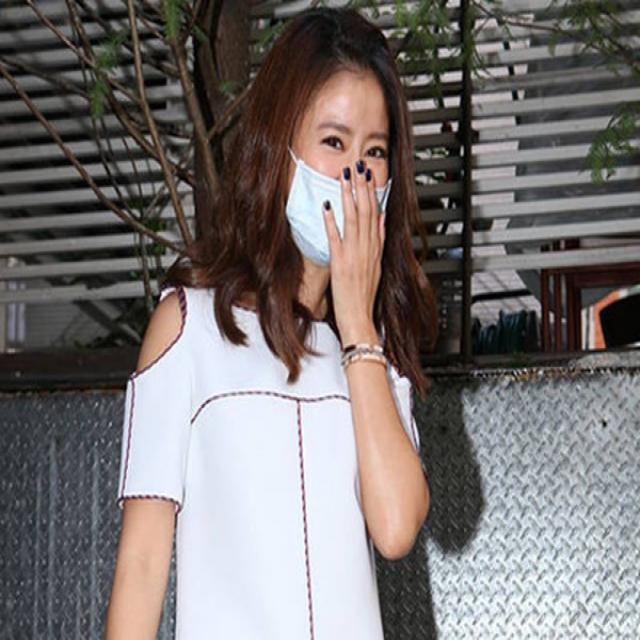mask: (276, 68, 390, 254)
